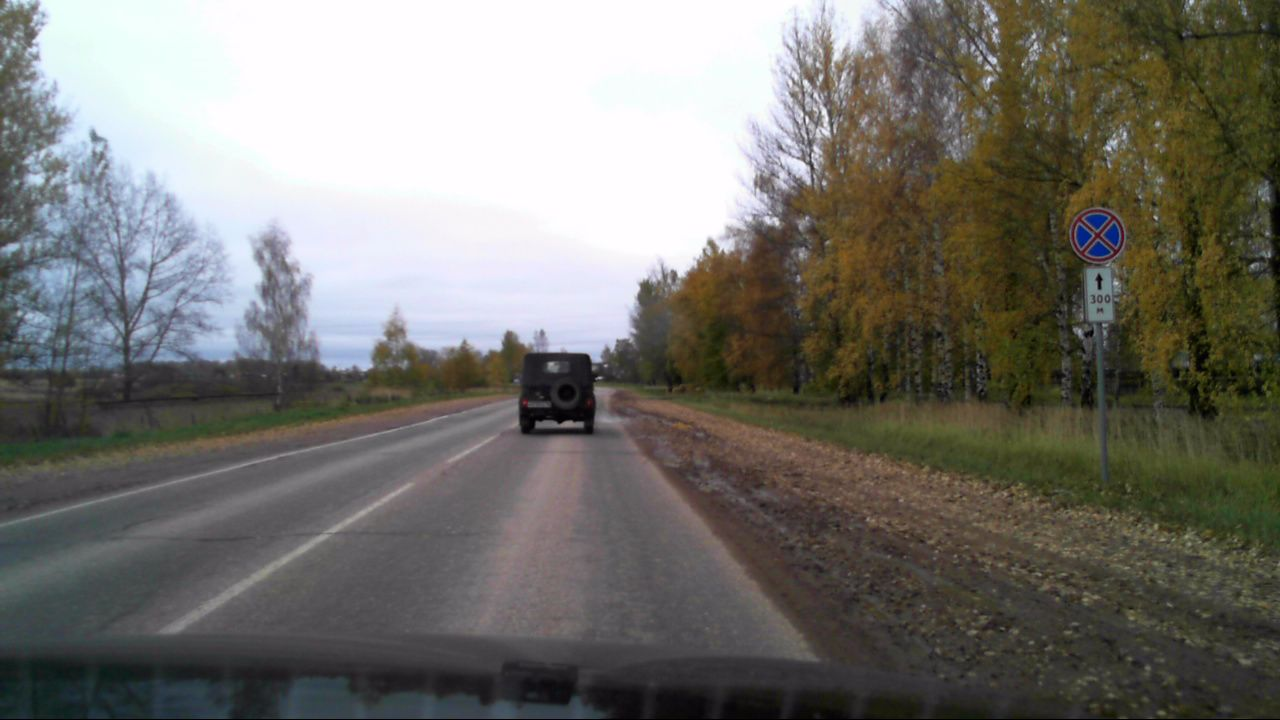No Parking: (1070, 208, 1124, 264)
